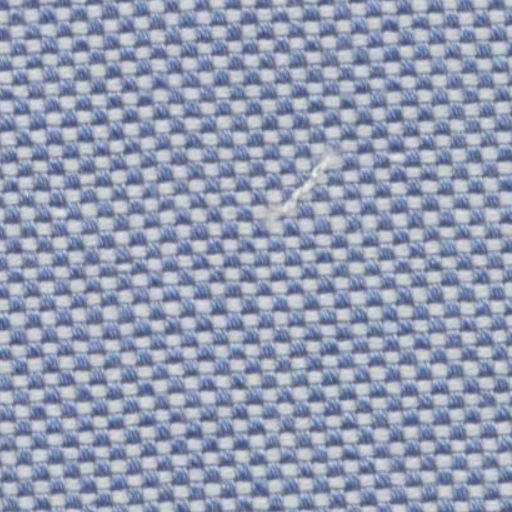DuanSha: (266, 146, 345, 232)
